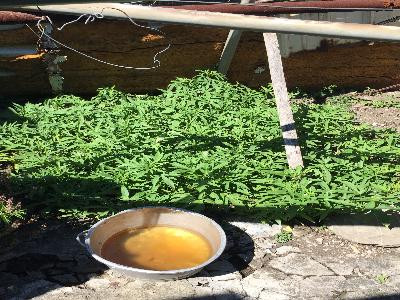bowl: (75, 204, 230, 282)
